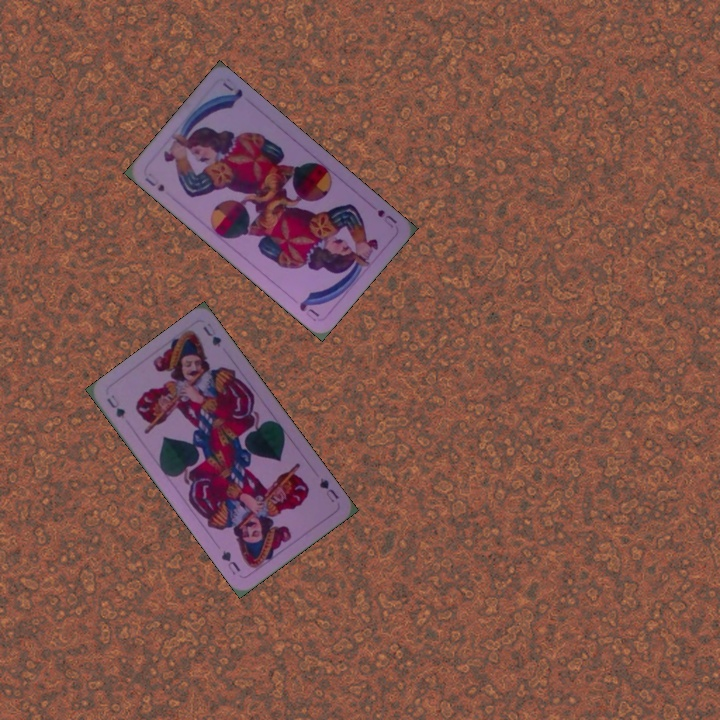GU: (315, 474, 341, 505), (102, 390, 128, 421)
SU: (373, 205, 400, 226), (141, 174, 167, 194)
